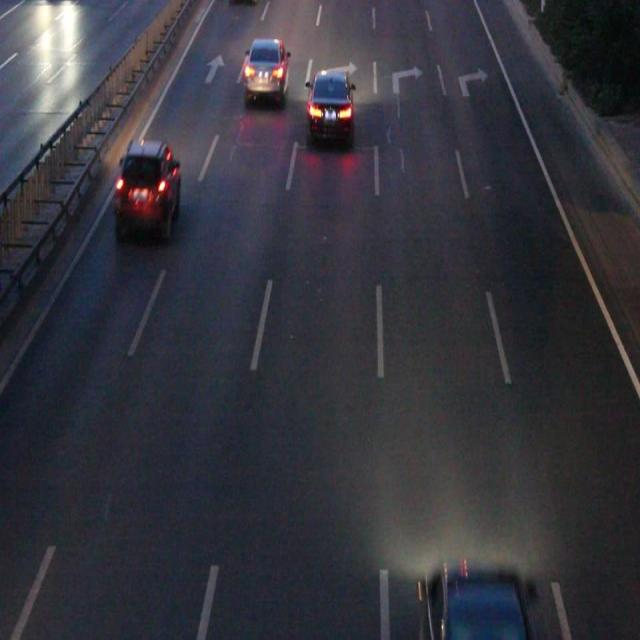car: (118, 144, 180, 235), (307, 72, 352, 140), (244, 39, 288, 97)
